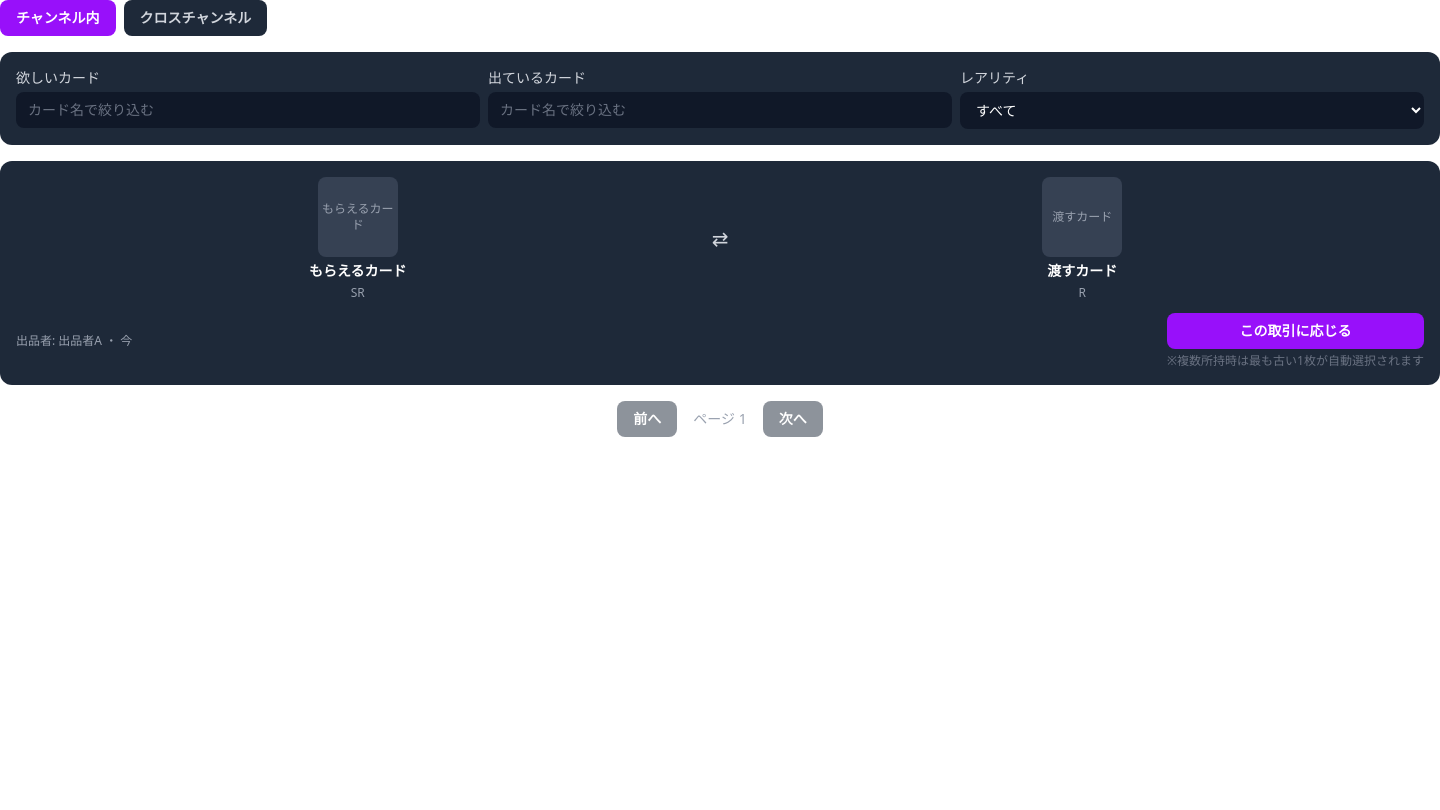
Test: TradeBoard (#726) › opens the accept modal with cancel as the initial focus and closes on Escape
Click the button "この取引に応じる": {"x": 1296, "y": 331} [1167,313,1424,349]
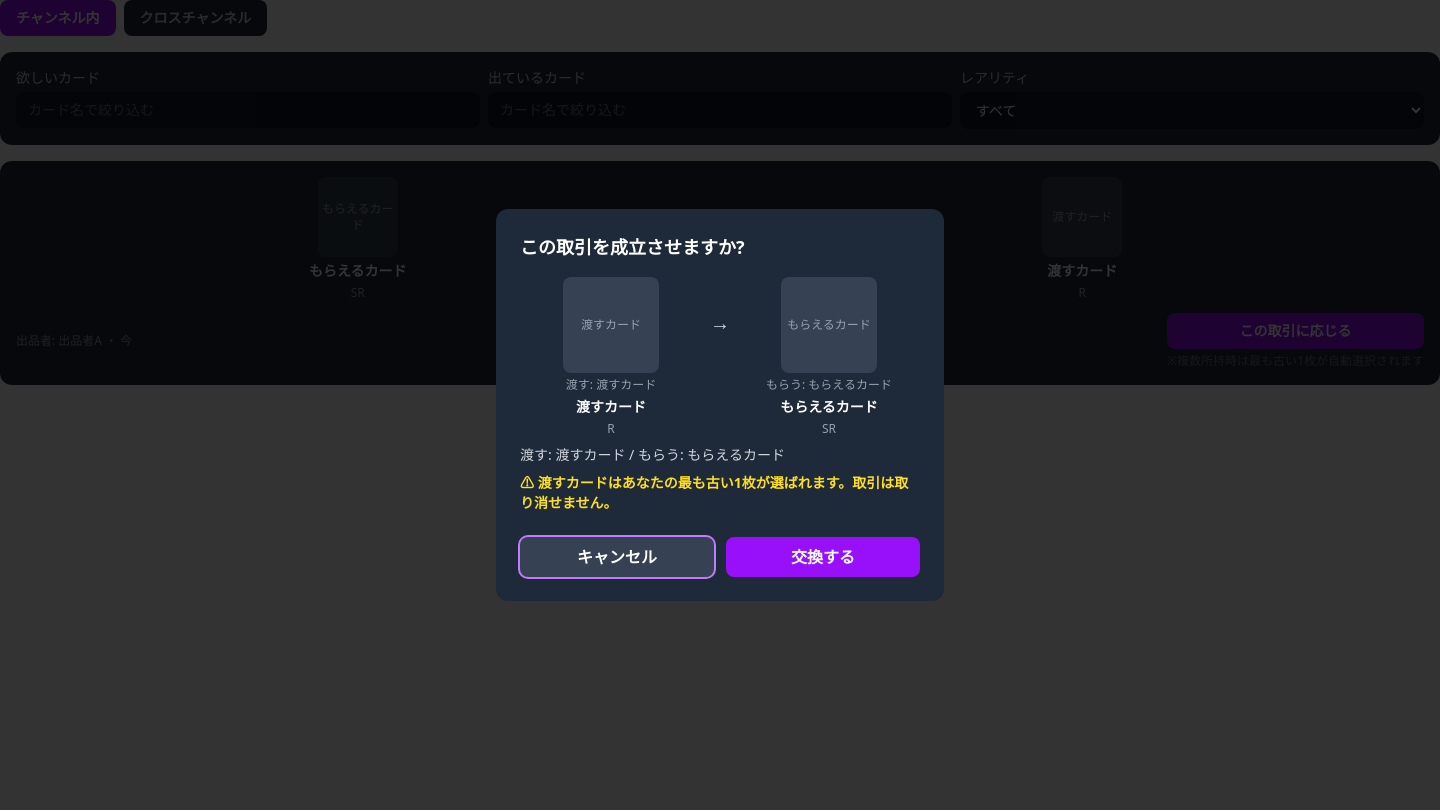
Result: the button "キャンセル" is shown at [520,537,714,577]
Result: the text "⚠ 渡すカードはあなたの最も古い1枚が選ばれます。取引は取り消せません。" is shown at [520,473,920,513]
Press Escape
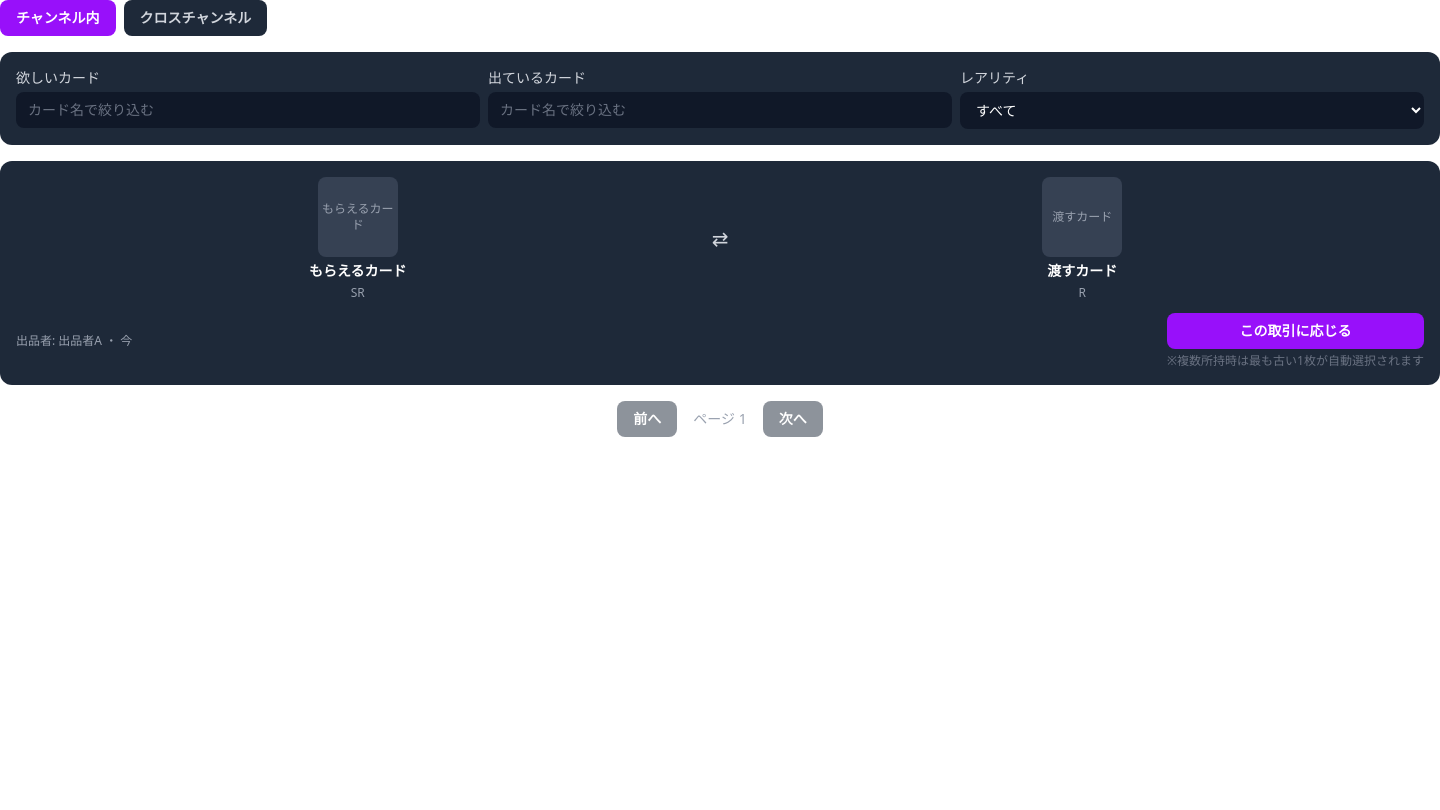
Result: the dialog is gone
